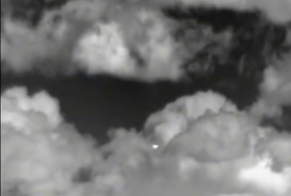Target: (153, 145, 157, 148)
